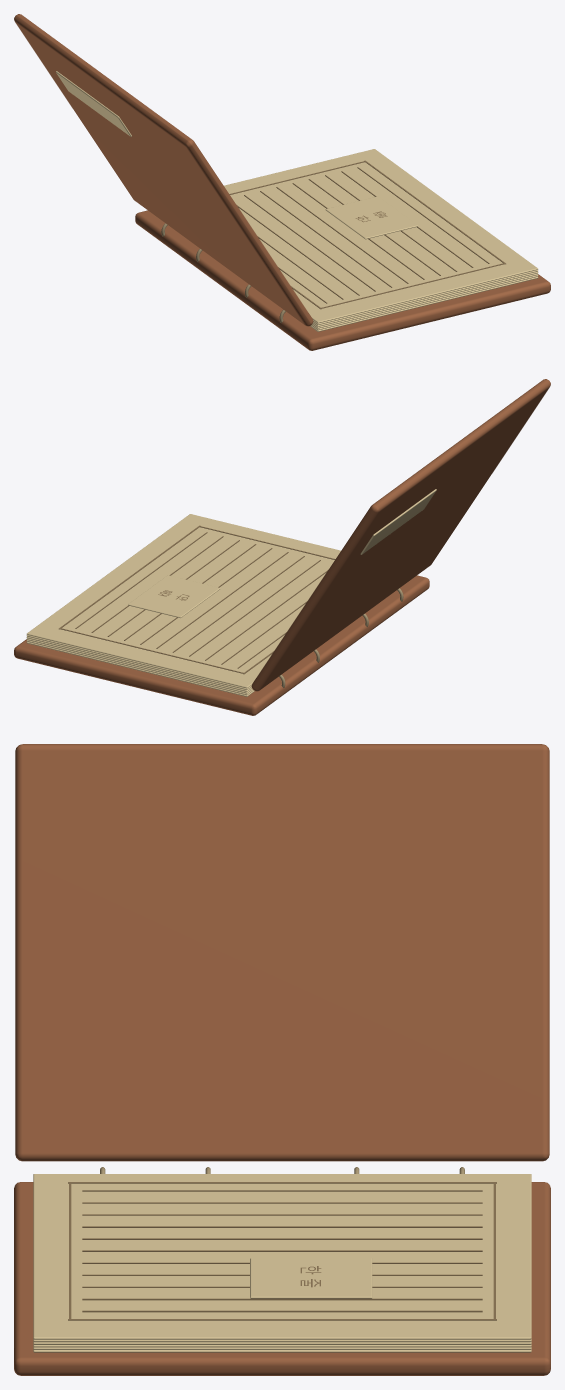
3 views of the same model, one above another, from view 1: azimuth 30°, elevation 25°; view 2: azimuth 150°, elevation 25°; view 3: azimuth 270°, elevation 25° (orthographic). The views are drawn at different scales.
Parts seen in each view (by area): view 1: Individual paper leaf.005, Ochre cover board, Back notebook board, Blank writing inset, Cream title slip, Individual paper leaf, Individual paper leaf.001, Individual paper leaf.002, Individual paper leaf.003, Individual paper leaf.004; view 2: Individual paper leaf.005, Ochre cover board, Back notebook board, Blank writing inset, Cream title slip, Individual paper leaf, Individual paper leaf.001, Individual paper leaf.002, Individual paper leaf.003, Individual paper leaf.004; view 3: Ochre cover board, Individual paper leaf.005, Back notebook board, Blank writing inset, Individual paper leaf.004, Individual paper leaf, Individual paper leaf.001, Individual paper leaf.002, Individual paper leaf.003, Vertical manuscript ruling.009, Vertical manuscript ruling.010, Outer margin (+7 smaller).
Boxes of the visible parts, bbox=[...] form: Individual paper leaf.005: bbox=[224, 149, 538, 323]; Ochre cover board: bbox=[14, 14, 313, 326]; Back notebook board: bbox=[135, 210, 550, 350]; Blank writing inset: bbox=[325, 196, 417, 239]; Cream title slip: bbox=[56, 71, 131, 136]; Individual paper leaf: bbox=[310, 276, 538, 331]; Individual paper leaf.001: bbox=[311, 275, 538, 330]; Individual paper leaf.002: bbox=[312, 273, 538, 328]; Individual paper leaf.003: bbox=[313, 271, 538, 326]; Individual paper leaf.004: bbox=[313, 270, 538, 324]; Individual paper leaf.005: bbox=[26, 514, 340, 688]; Ochre cover board: bbox=[251, 379, 550, 691]; Back notebook board: bbox=[14, 575, 429, 715]; Blank writing inset: bbox=[128, 575, 220, 618]; Cream title slip: bbox=[360, 489, 436, 554]; Individual paper leaf: bbox=[26, 641, 254, 696]; Individual paper leaf.001: bbox=[26, 640, 253, 695]; Individual paper leaf.002: bbox=[26, 638, 252, 693]; Individual paper leaf.003: bbox=[26, 636, 251, 691]; Individual paper leaf.004: bbox=[26, 635, 251, 689]; Ochre cover board: bbox=[15, 744, 549, 1161]; Individual paper leaf.005: bbox=[33, 1174, 531, 1339]; Back notebook board: bbox=[14, 1182, 550, 1375]; Blank writing inset: bbox=[250, 1258, 372, 1298]; Individual paper leaf.004: bbox=[33, 1339, 531, 1342]; Individual paper leaf: bbox=[33, 1349, 531, 1352]; Individual paper leaf.001: bbox=[33, 1347, 531, 1349]; Individual paper leaf.002: bbox=[33, 1344, 531, 1347]; Individual paper leaf.003: bbox=[33, 1342, 531, 1344]; Vertical manuscript ruling.009: bbox=[82, 1298, 482, 1300]; Vertical manuscript ruling.010: bbox=[82, 1310, 482, 1312]; Outer margin: bbox=[68, 1182, 496, 1183].
Bounding box in the file's own units: 0.2987 × 0.1882 × 0.2503.
